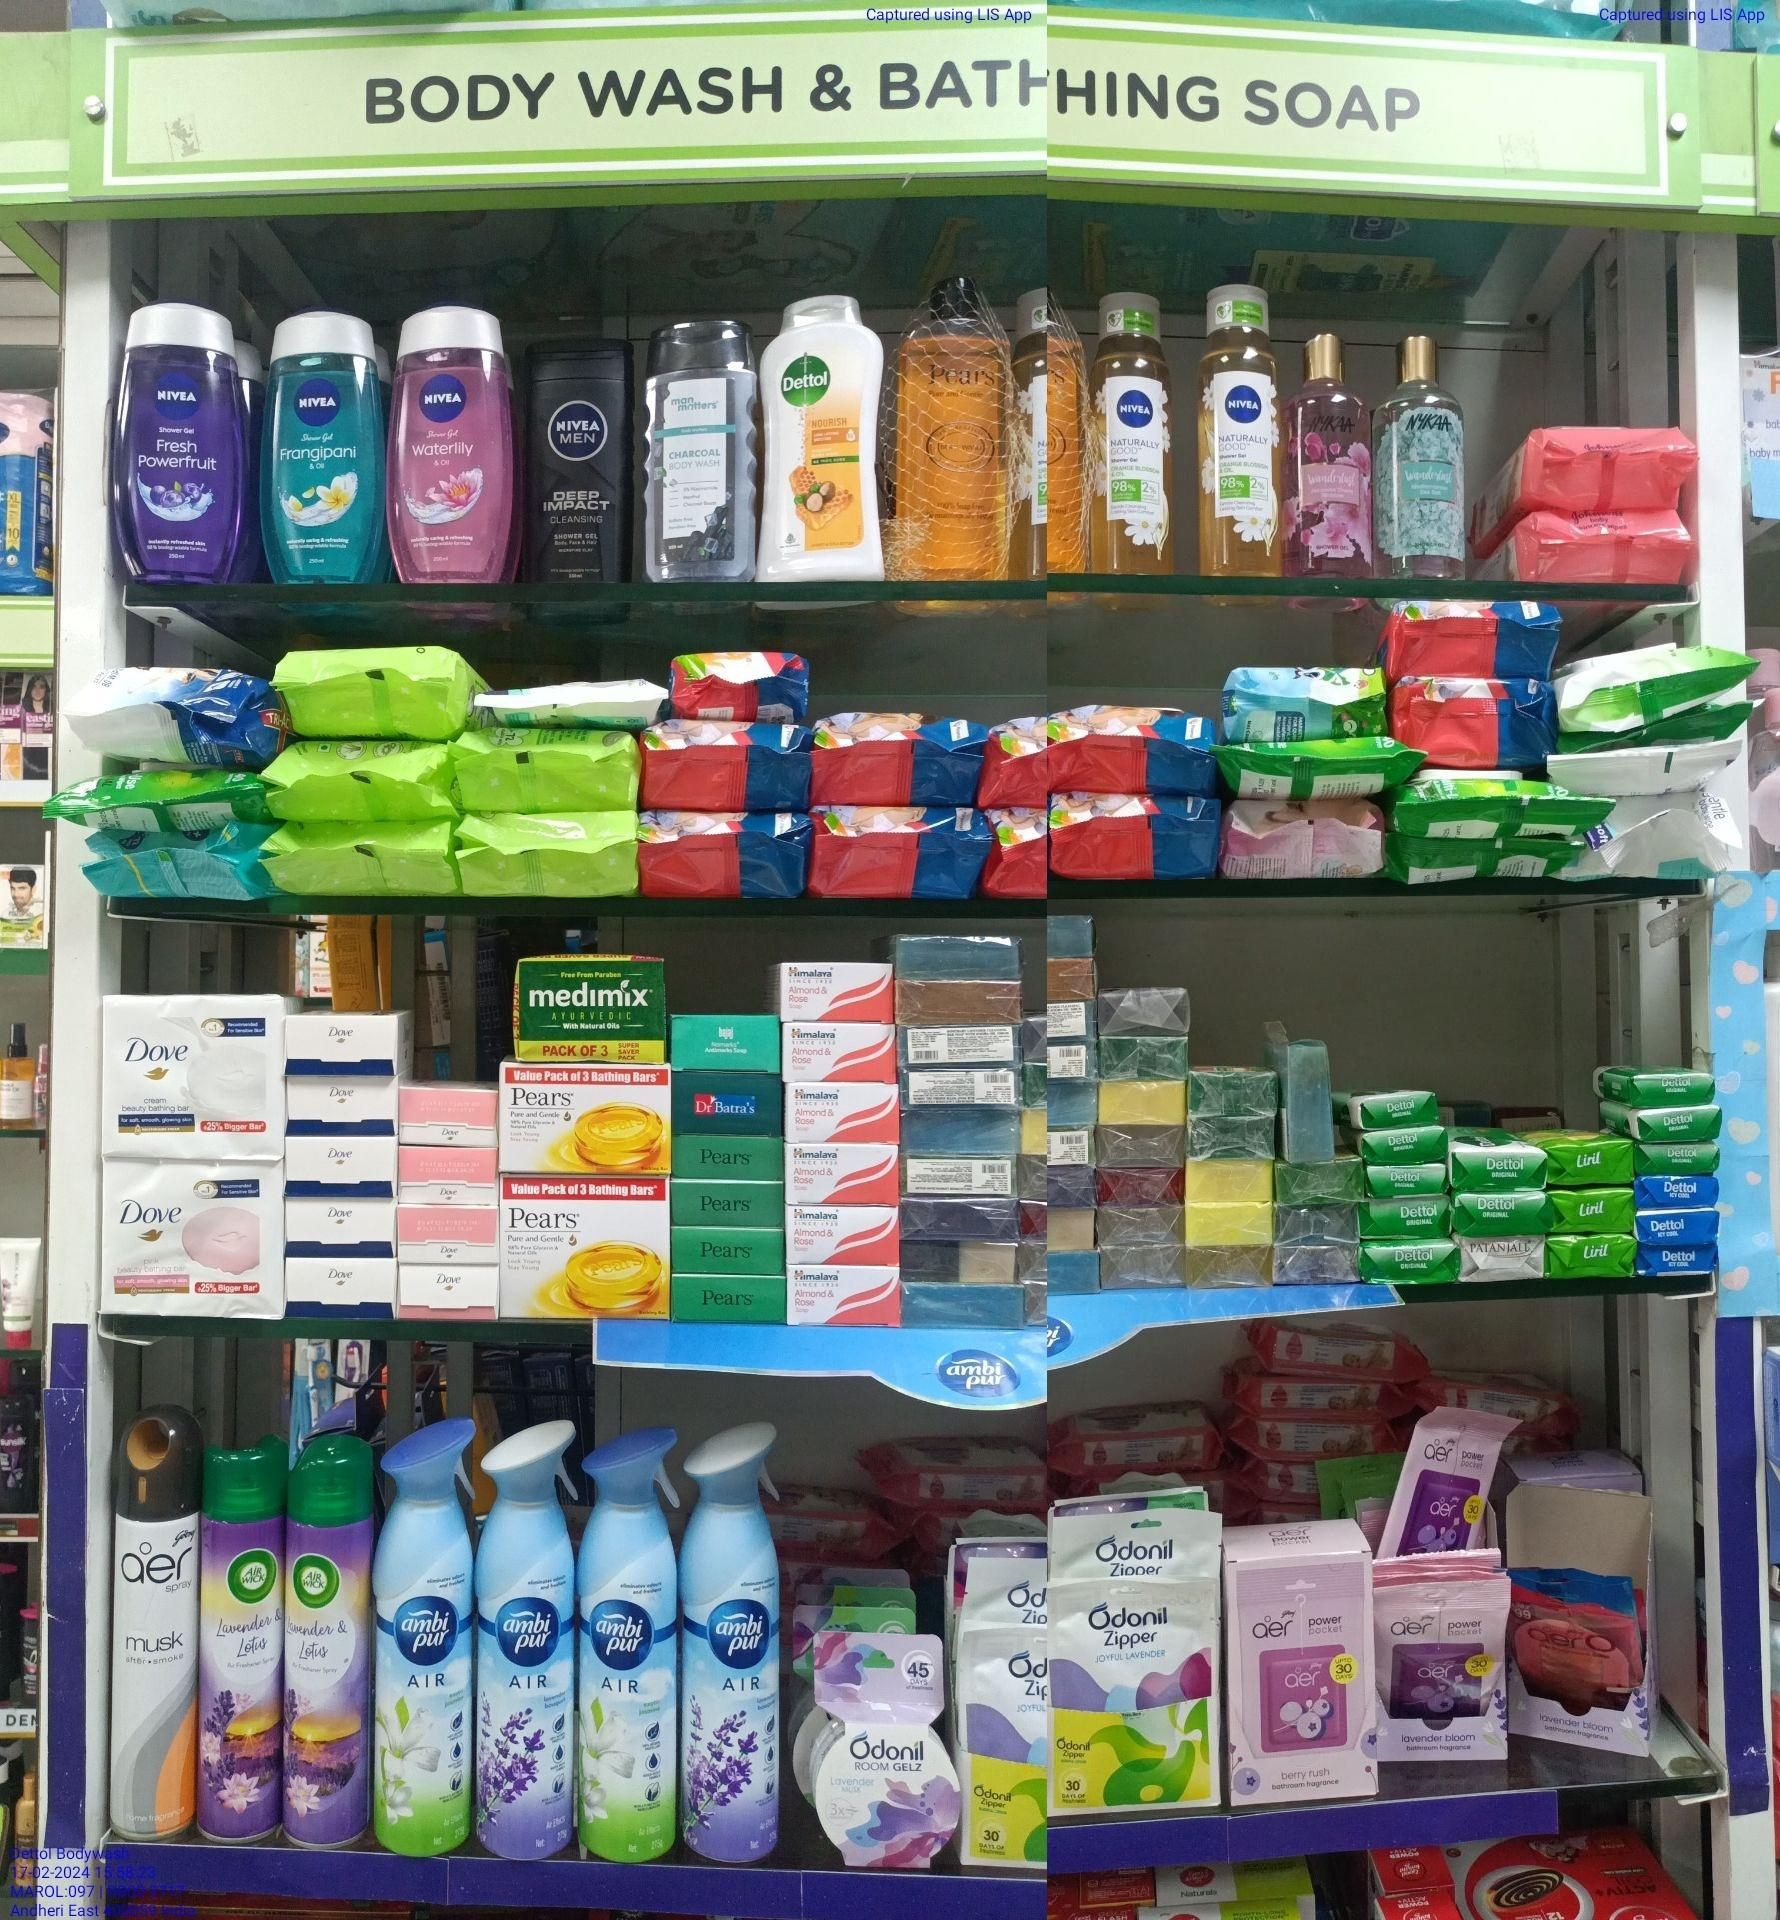Dettol_Nourish_Body_Wash_250ML: (761, 293, 885, 577)
Nivea_Shower_Gel_Frangipani_and_Oil_250ML: (259, 314, 391, 584)
Nivea_Shower_Gel_Fresh_Powerfruit_250ML: (114, 301, 234, 590)
Nivea_Shower_Gel_Waterlily_and_Oil_250ML: (402, 301, 509, 580)
